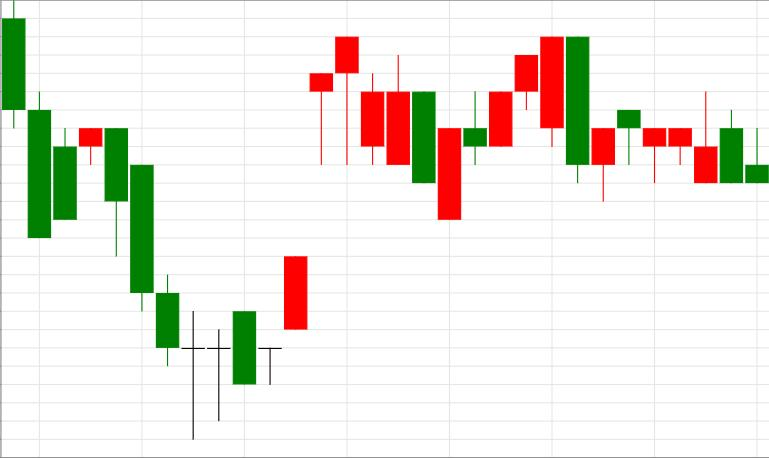bearish_engulfing_fall: (437, 37, 589, 220)
hanging_man_fall: (207, 36, 359, 421)
